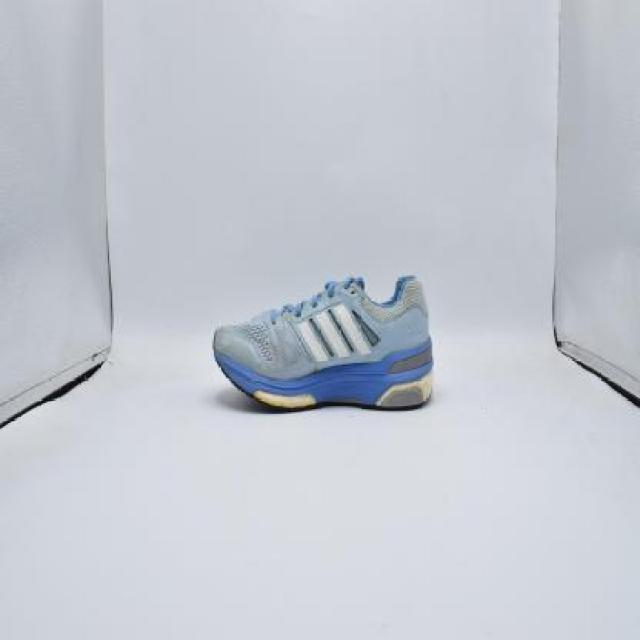Adidas: (290, 297, 380, 369)
